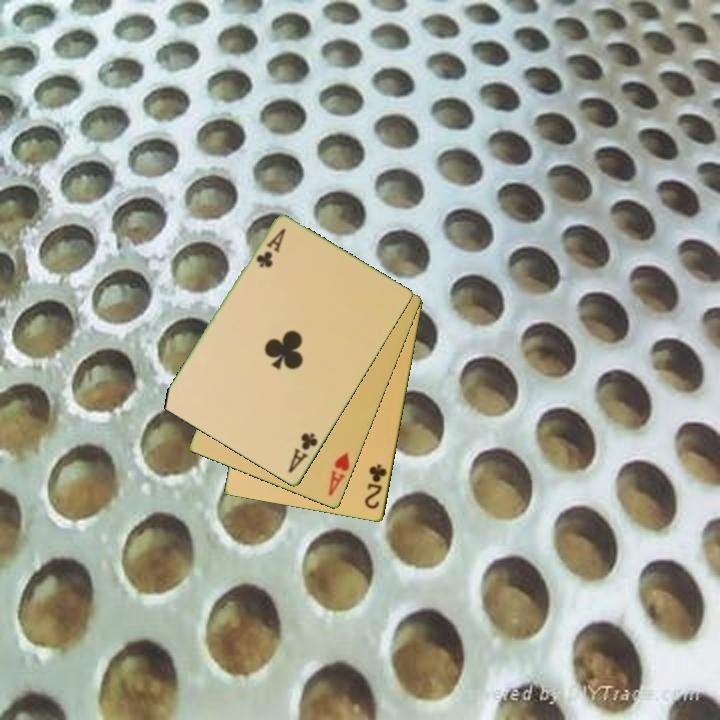2c: (361, 461, 390, 512)
Ac: (252, 224, 289, 271), (285, 429, 321, 476)
Ah: (325, 449, 353, 500)
